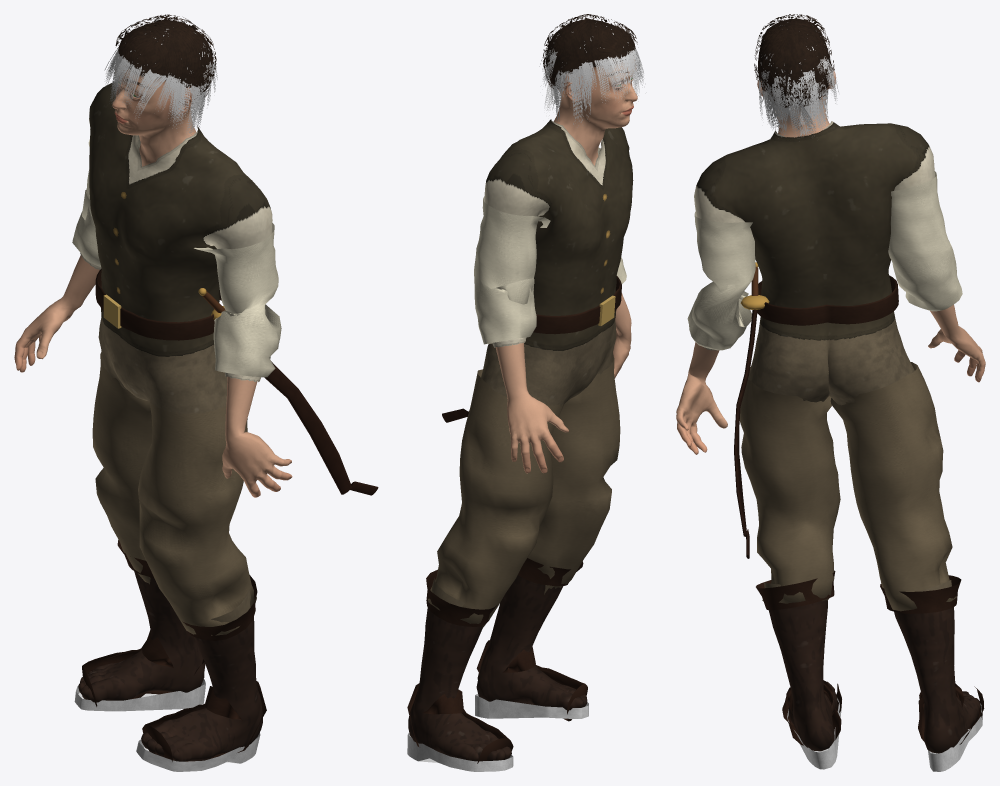
The model's file is SM_Art_Person_jake.gltf.
3 renders of one model, left to right at view 1: azimuth 30°, elevation 25°; view 2: azimuth 150°, elevation 25°; view 3: azimuth 270°, elevation 25°, orthographic. The views are drawn at different scales.
Visible parts, largest first — view 1: SM_Art_Person_jake; view 2: SM_Art_Person_jake; view 3: SM_Art_Person_jake.
Boxes of the visible parts, x1,y1,x2,y2 form: SM_Art_Person_jake: [14, 14, 378, 771]; SM_Art_Person_jake: [407, 14, 643, 771]; SM_Art_Person_jake: [676, 14, 985, 771].
Size of the model in its own units: 0.6045 by 1.8 by 0.72.
Materials: 20 (17 with a texture image).
